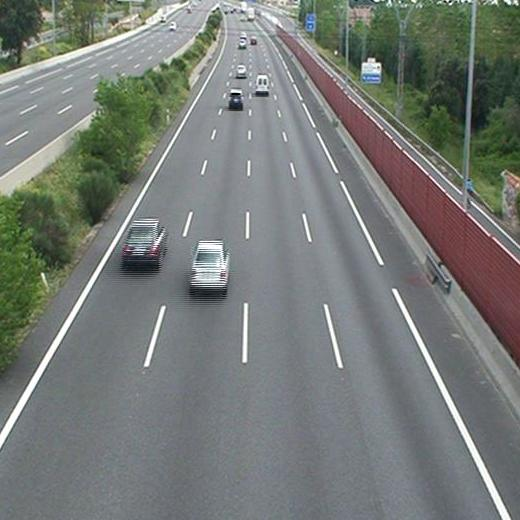car: (123, 219, 165, 263), (192, 240, 228, 287), (227, 89, 244, 108), (235, 65, 247, 77), (237, 38, 245, 51), (250, 36, 256, 47)
van: (255, 76, 269, 95)
